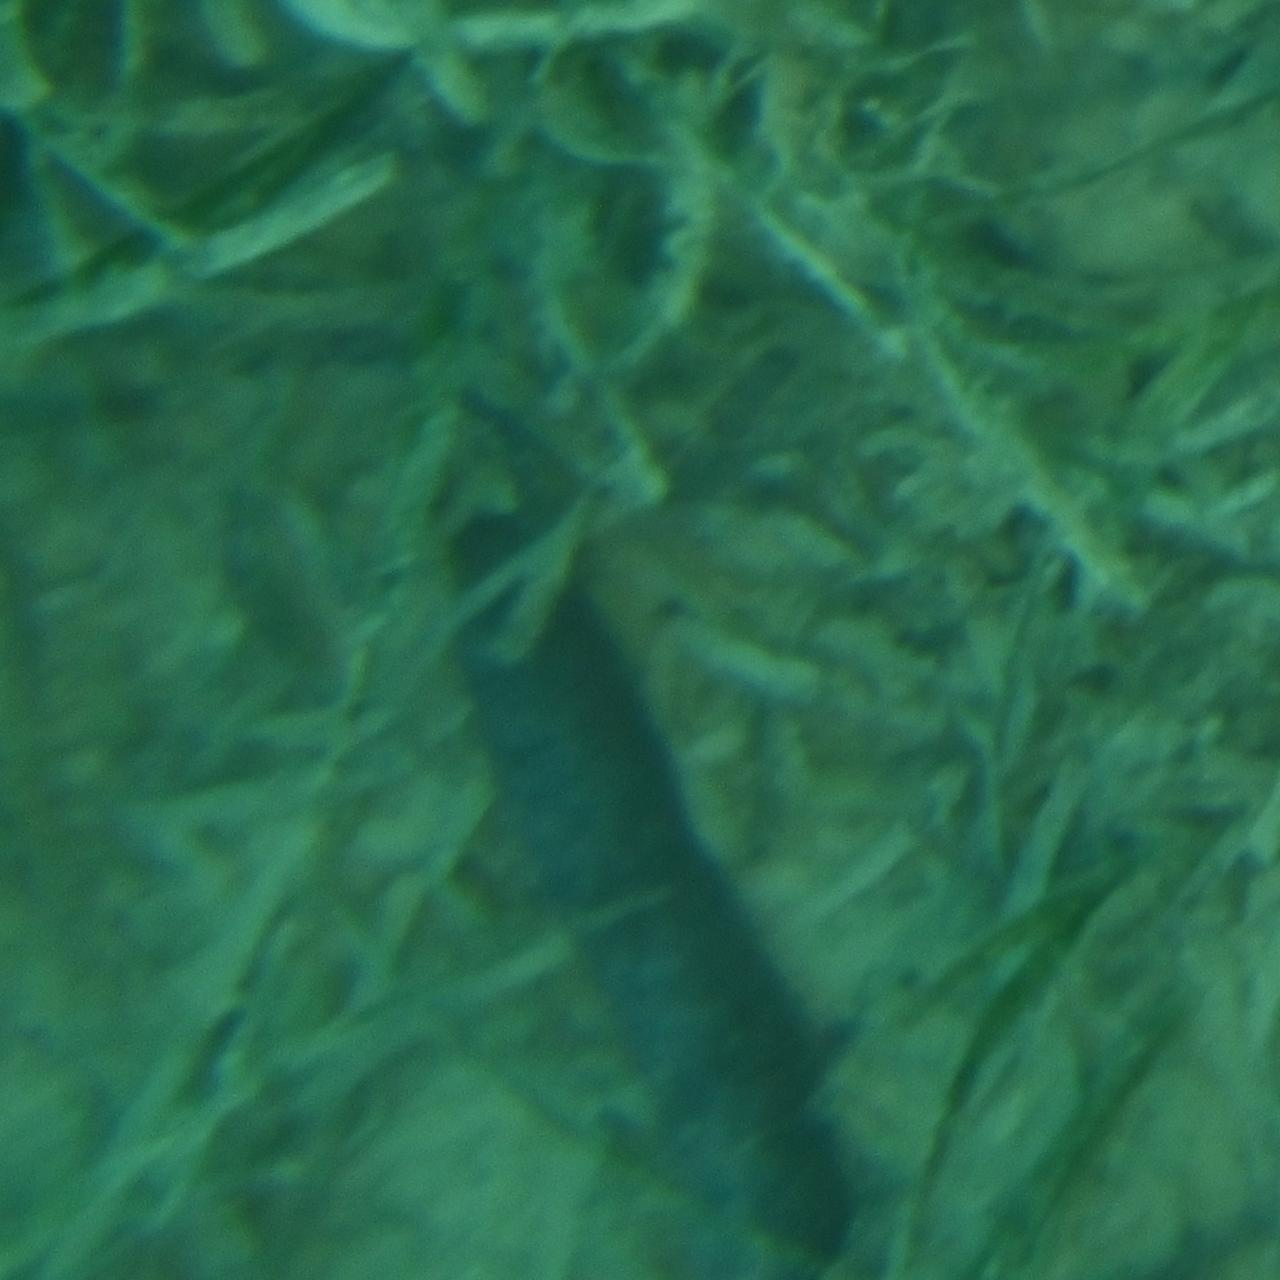Holothuria tubulosa: (433, 470, 847, 1278)
